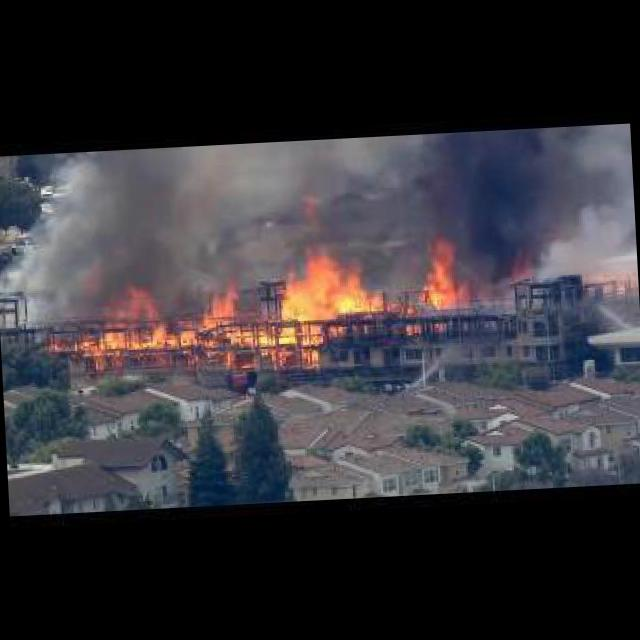Fire: (50, 232, 480, 374)
